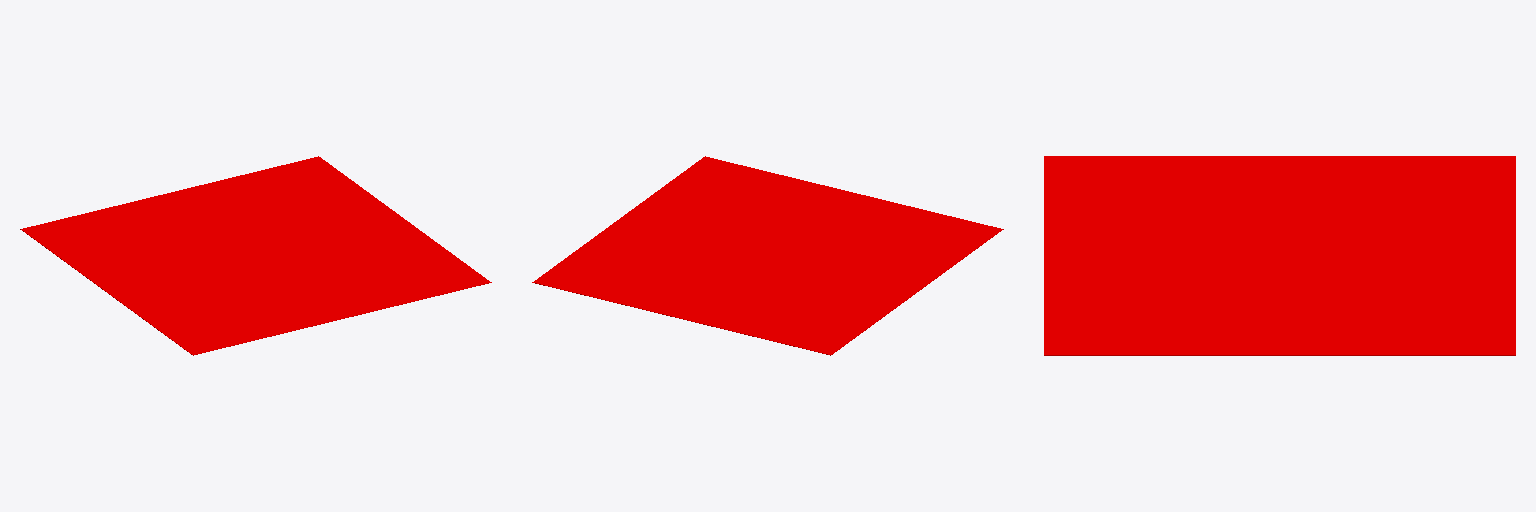
robot.urdf — ground:
<robot name="ground">
  <link name="world"/>
  <link name="ground_link">
    <inertial>
      <mass value="100.0"/>
      <origin xyz="0 0 0" rpy="0 0 0"/>
      <inertia ixx="1.0" ixy="0" ixz="0" iyy="1.0" iyz="0" izz="1.0"/>
    </inertial>
    <visual>
      <origin xyz="0 0 -0.025" rpy="0 0 0"/>
      <material name="color">
        <color rgba="1.0 0.0 0.0 1"/>
      </material>
      <geometry>
        <box size="50.0 50.0 0.05"/>
      </geometry>
    </visual>
    <collision>
      <origin xyz="0 0 -0.025" rpy="0 0 0"/>
      <geometry>
        <box size="50.0 50.0 0.05"/>
      </geometry>
      <contact_coefficients mu="1.0" kp="1.0" kd="1.0"/>
    </collision>
  </link>
  <joint name="ground_joint" type="fixed">
    <origin xyz="0 0 0" rpy="0 0 0"/>
    <parent link="world"/>
    <child link="ground_link"/>
  </joint>
</robot>

--- What the picture shows (computed from the rendered views, not written in the file) ---
3 views of the same robot in one strip: view 1: azimuth 30°, elevation 25°; view 2: azimuth 150°, elevation 25°; view 3: azimuth 270°, elevation 25° (orthographic).
Robot: ground — 2 links, 1 joints (1 fixed); root link world; default pose: every joint at zero.
Visible links, largest first — view 1: ground_link; view 2: ground_link; view 3: ground_link.
Link boxes in pixels (box(x1,y1,x2,y2)): ground_link: box(20, 156, 491, 355); ground_link: box(532, 156, 1003, 355); ground_link: box(1044, 156, 1515, 355).
Size in the robot's own frame: 50 by 50 by 0.05 metres.
Geometry: primitives only (box / cylinder / sphere), no mesh files.
